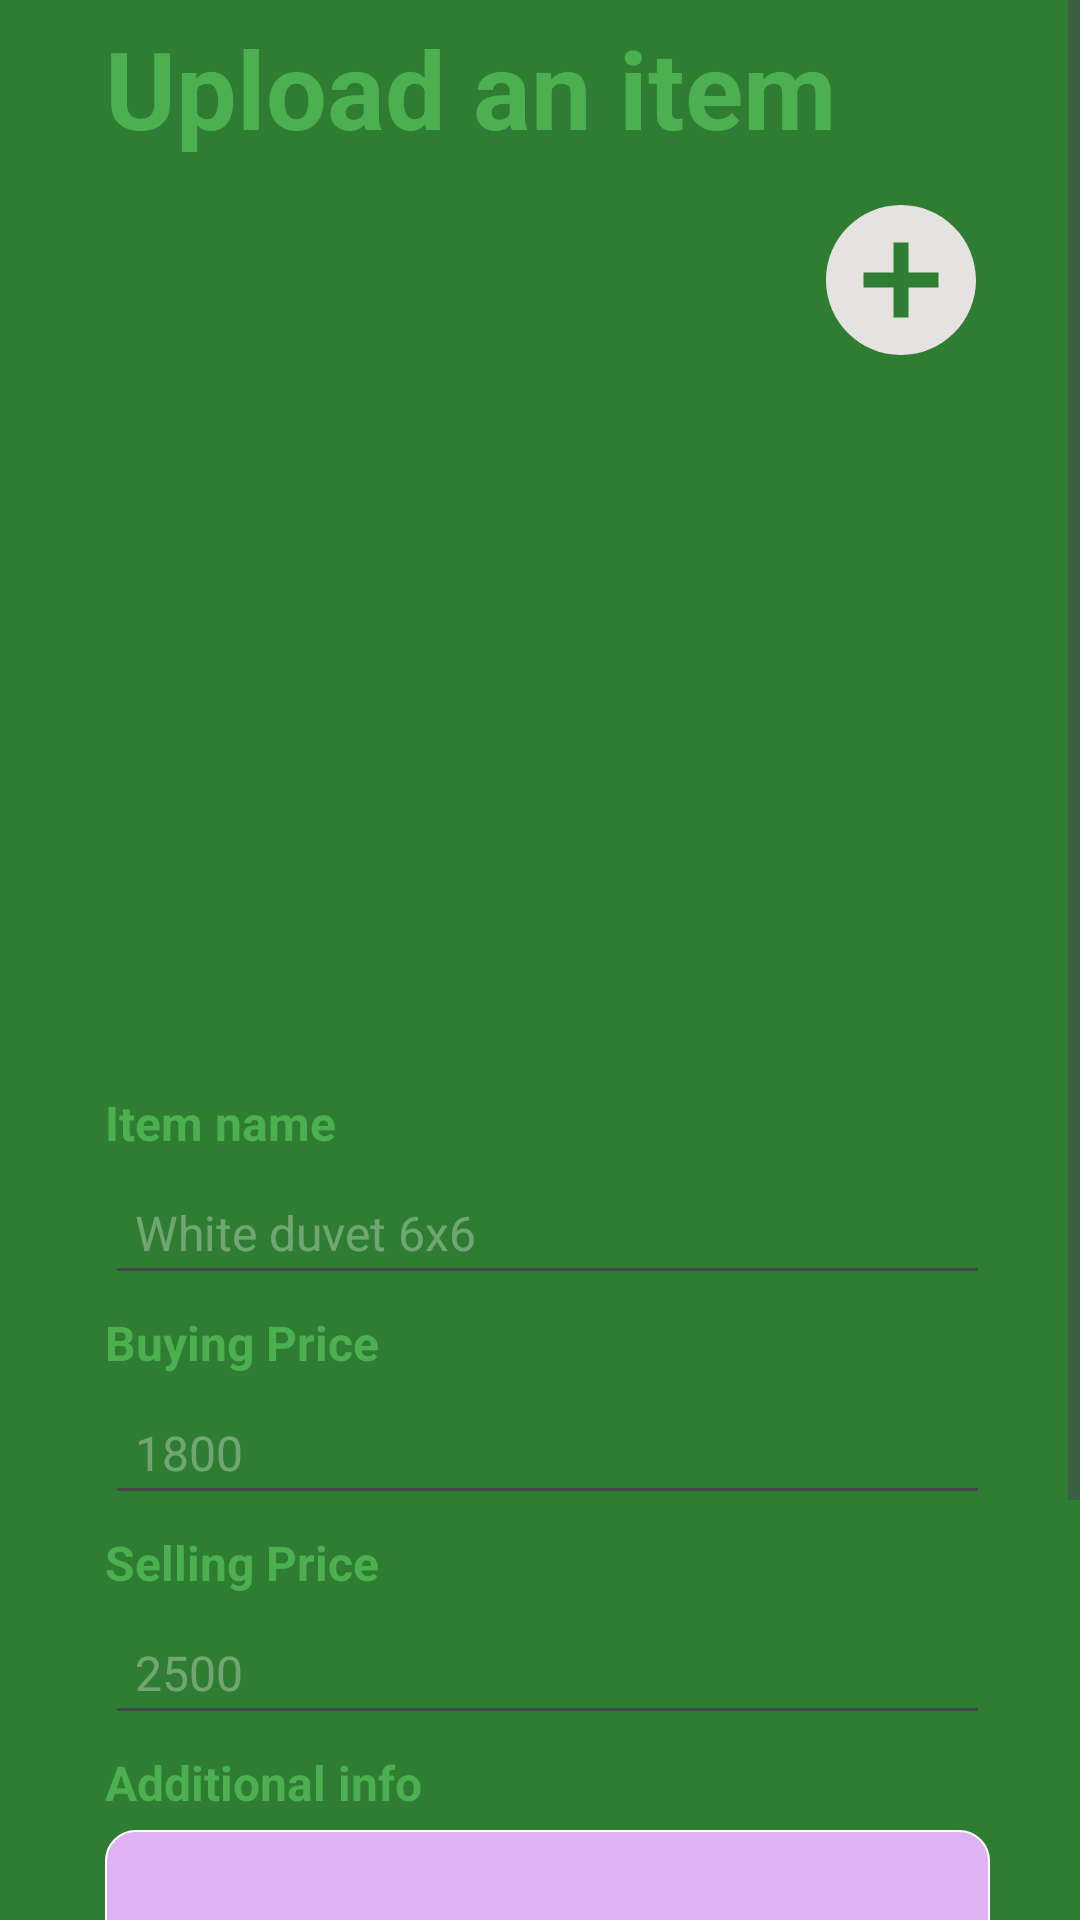

Named icons in this screenshot (1080px x 1920px) and their bounding boxes, (x1, y1, x2, y2):
add circle: (826, 205, 976, 355)
